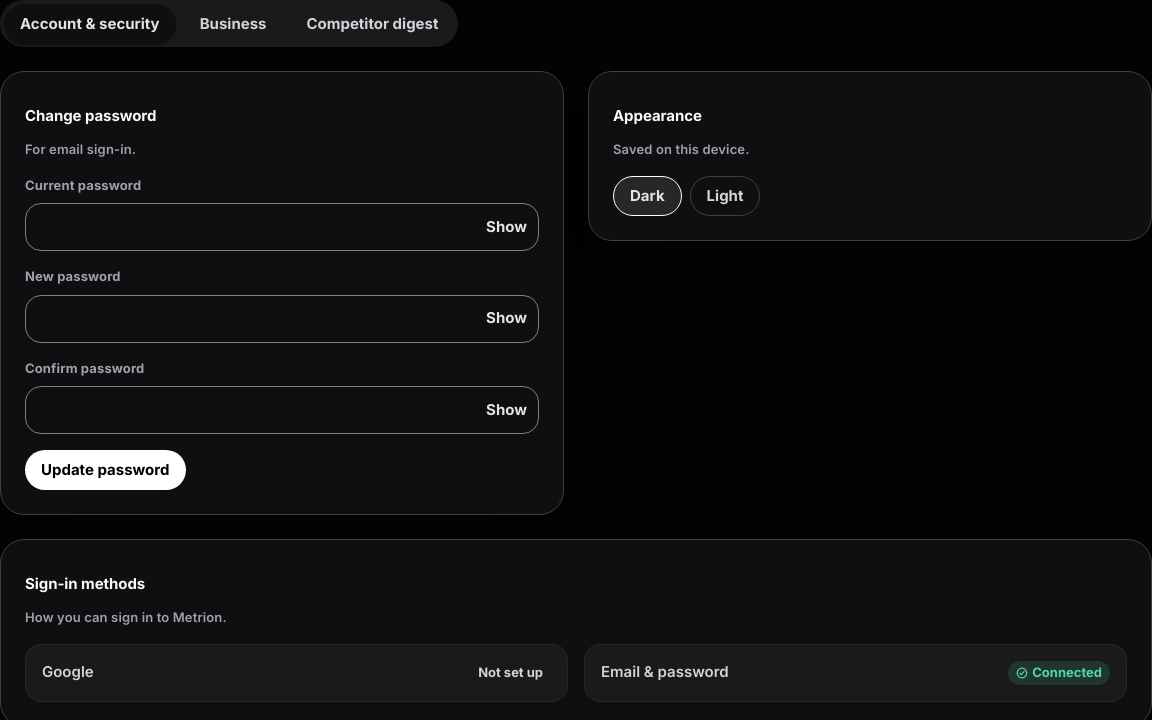
Settings accessibility (mocked Clerk and API) › announces a password error as an alert and success as a status, with the same messages
The image size is (1152, 720).
Type "old-password-1" into the password field labelled "Current password" at x=282, y=227, box [25,203,539,251]
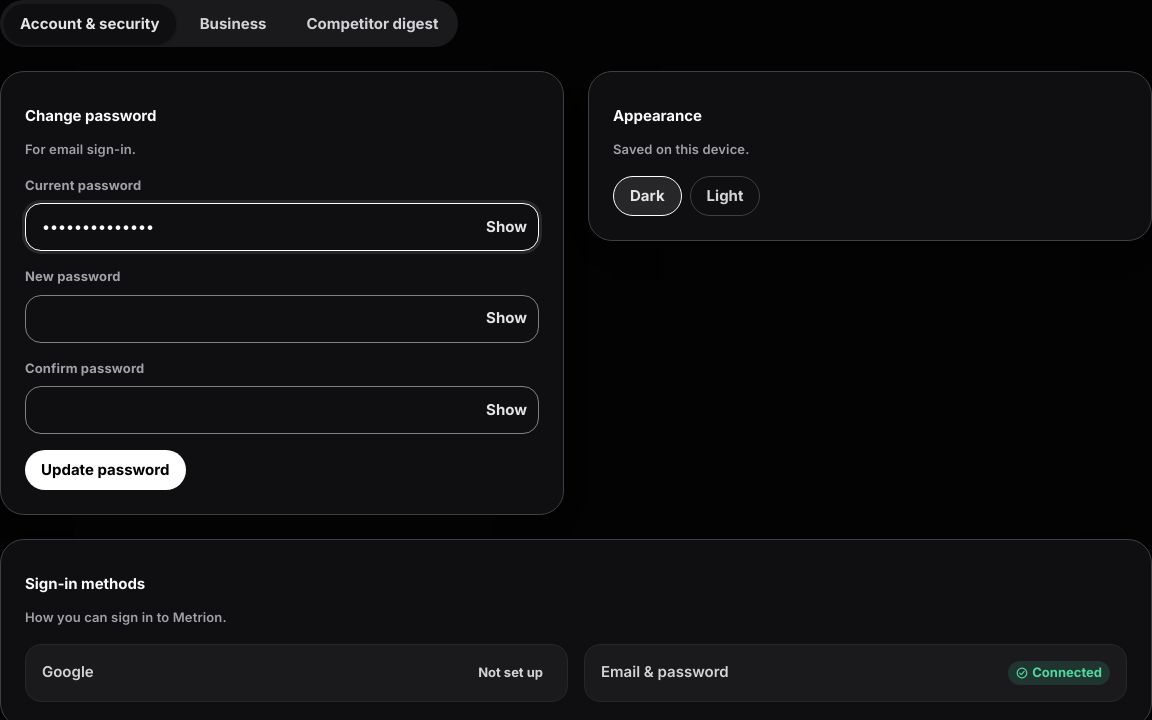
Type "a-long-new-password" into the password field labelled "New password" at x=282, y=318, box [25,294,539,342]
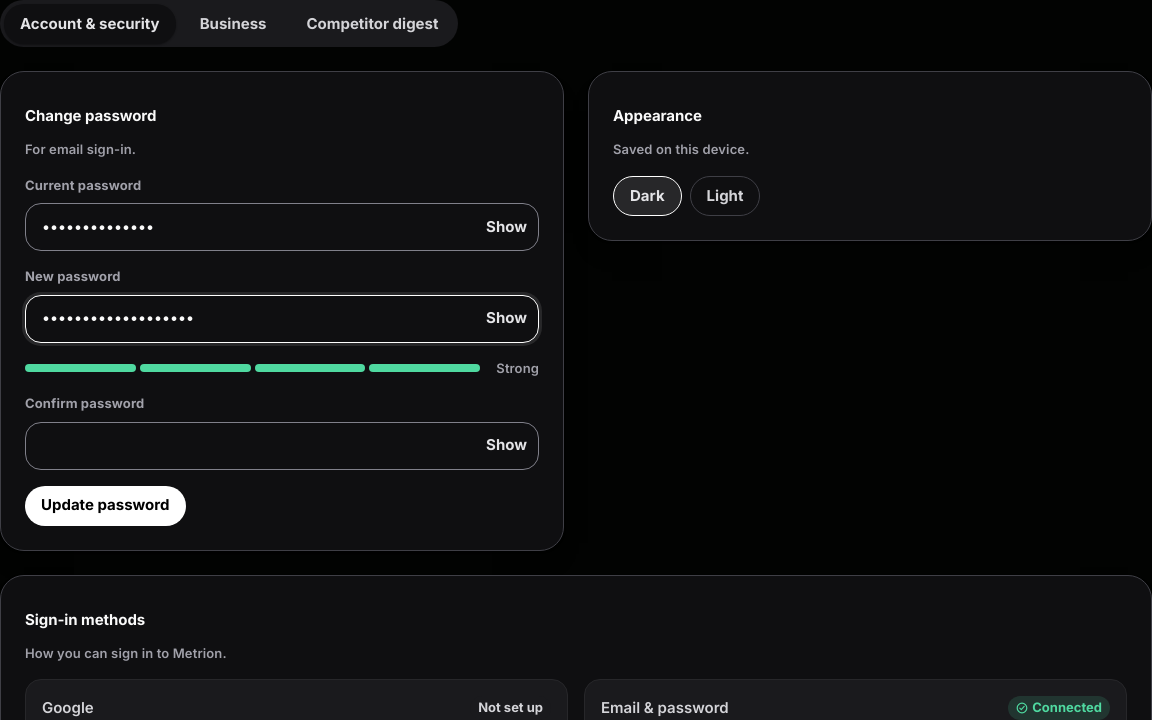
Type "something-different" into the password field labelled "Confirm password" at x=282, y=446, box [25,422,539,470]
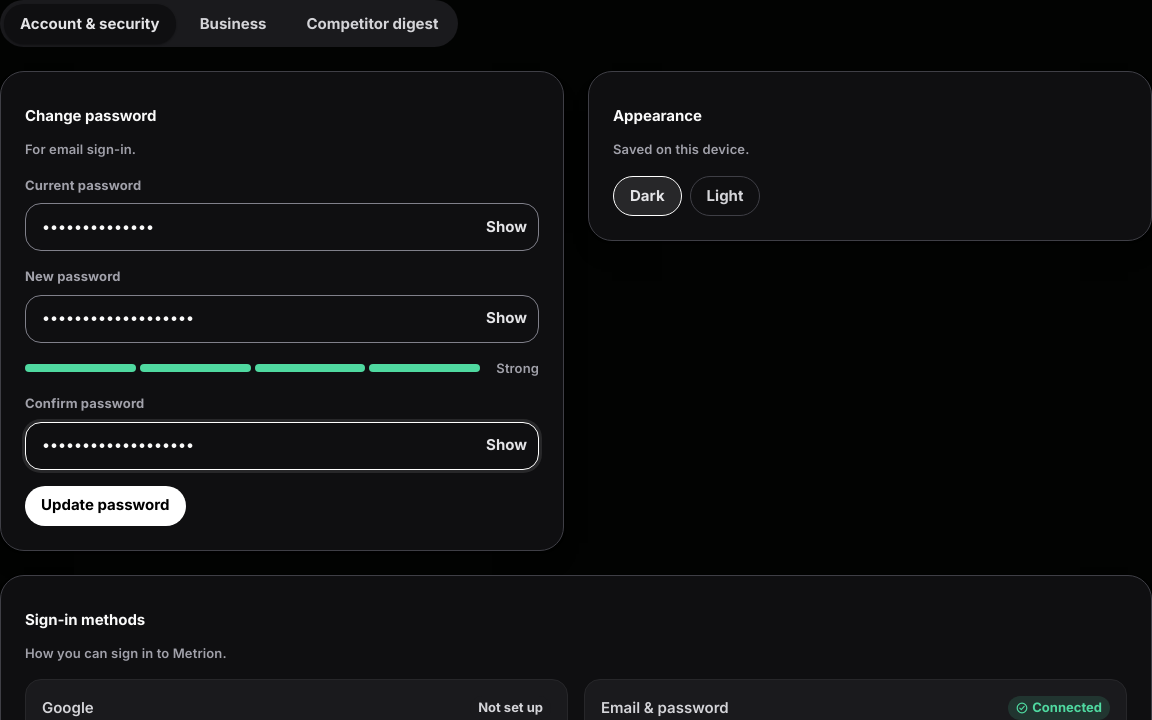
Click the button "Update password" at x=105, y=506, box [25,486,186,526]
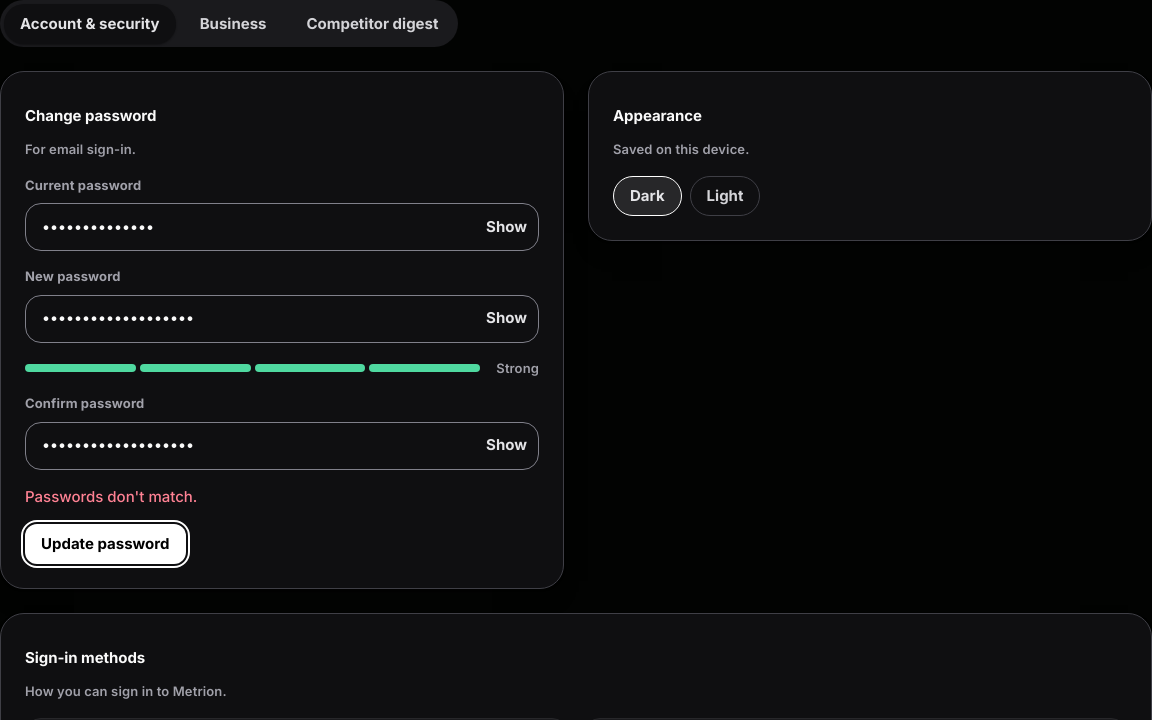
Expected: the message reads "Passwords don't match.", [25,486,197,506]
Type "a-long-new-password" into the password field labelled "Confirm password" at x=282, y=446, box [25,422,539,470]
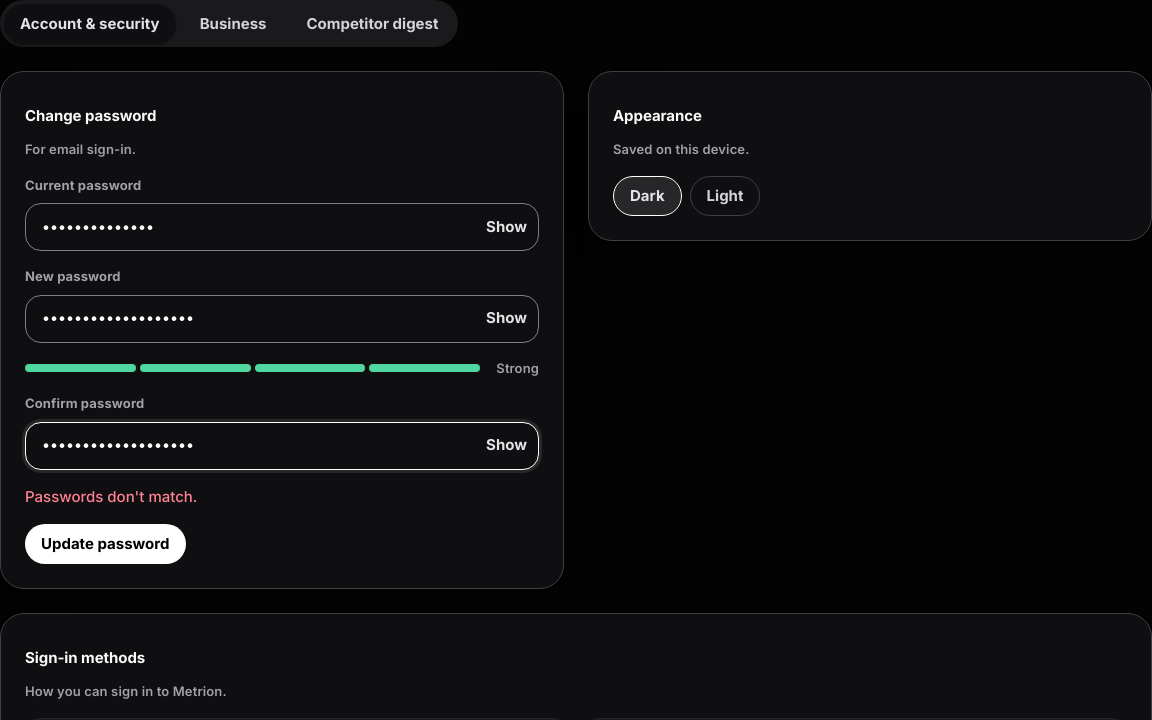
Click the button "Update password" at x=105, y=544, box [25,524,186,564]
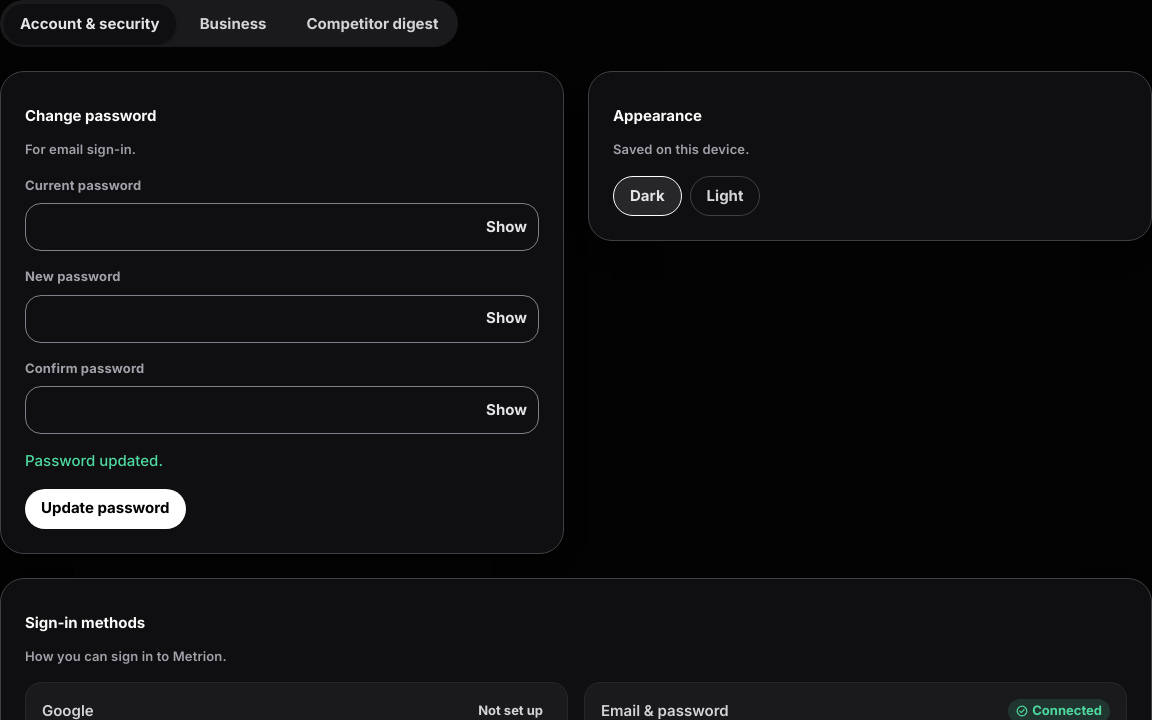
Expected: the message reads "Password updated.", [25,451,163,470]
